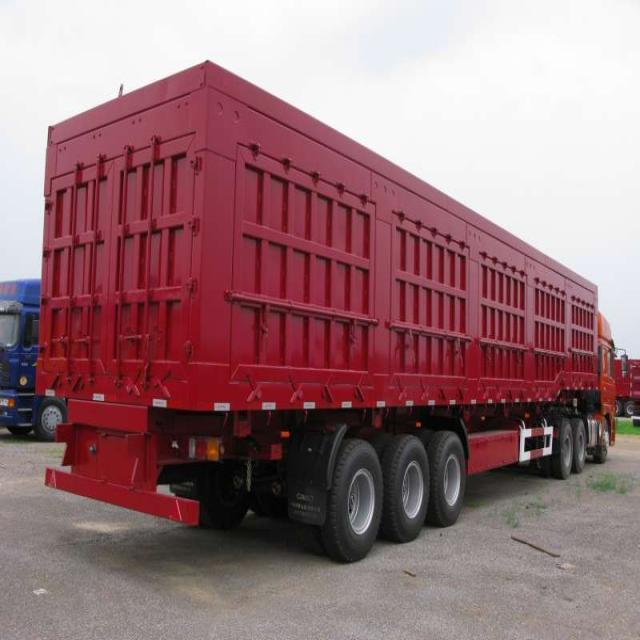overloaded: (33, 58, 618, 563)
